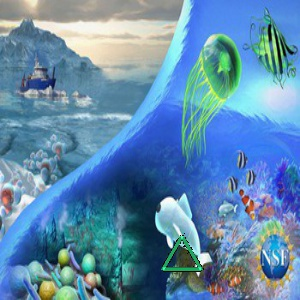triangle: (157, 231, 204, 274)
